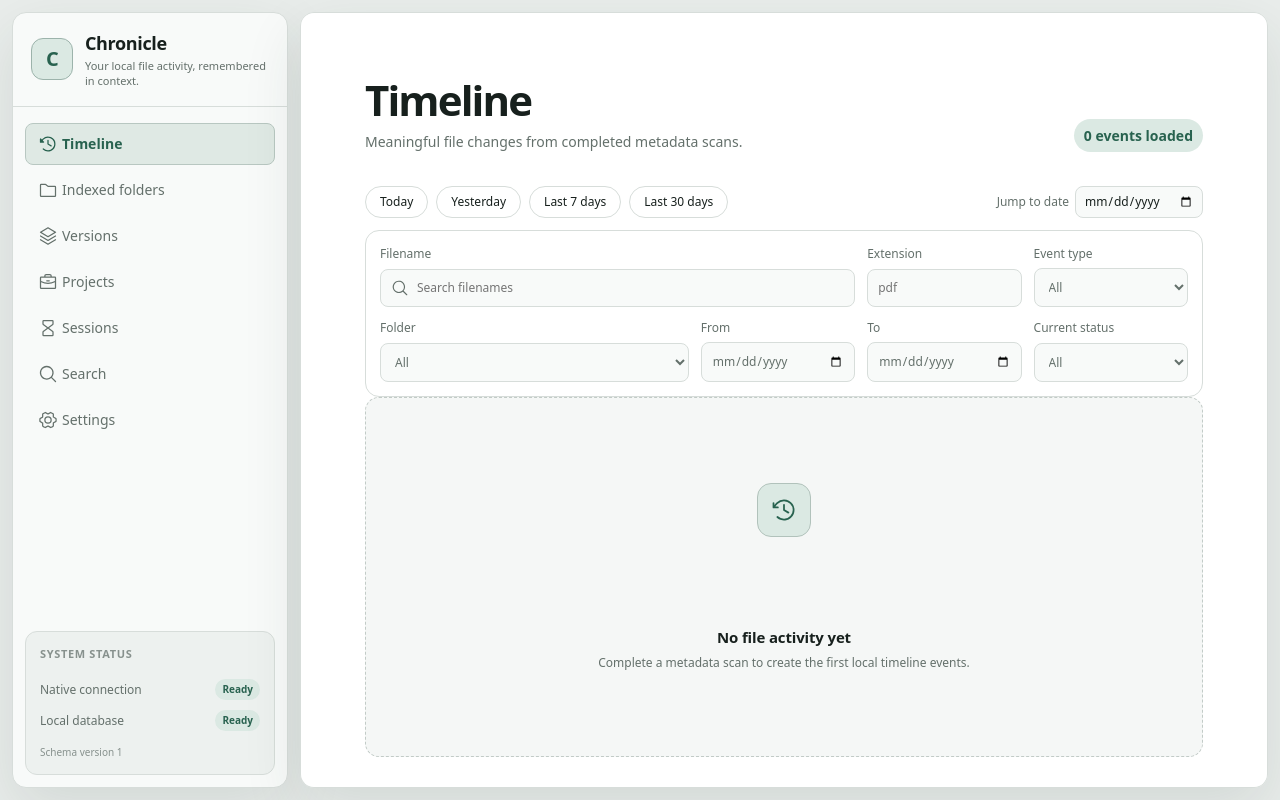
Test: Chronicle application › shows the empty indexed-folder state
This screenshot has width=1280, height=800.
Step 1. Click the button "Indexed folders" → (150, 190), box [25,169,275,211]
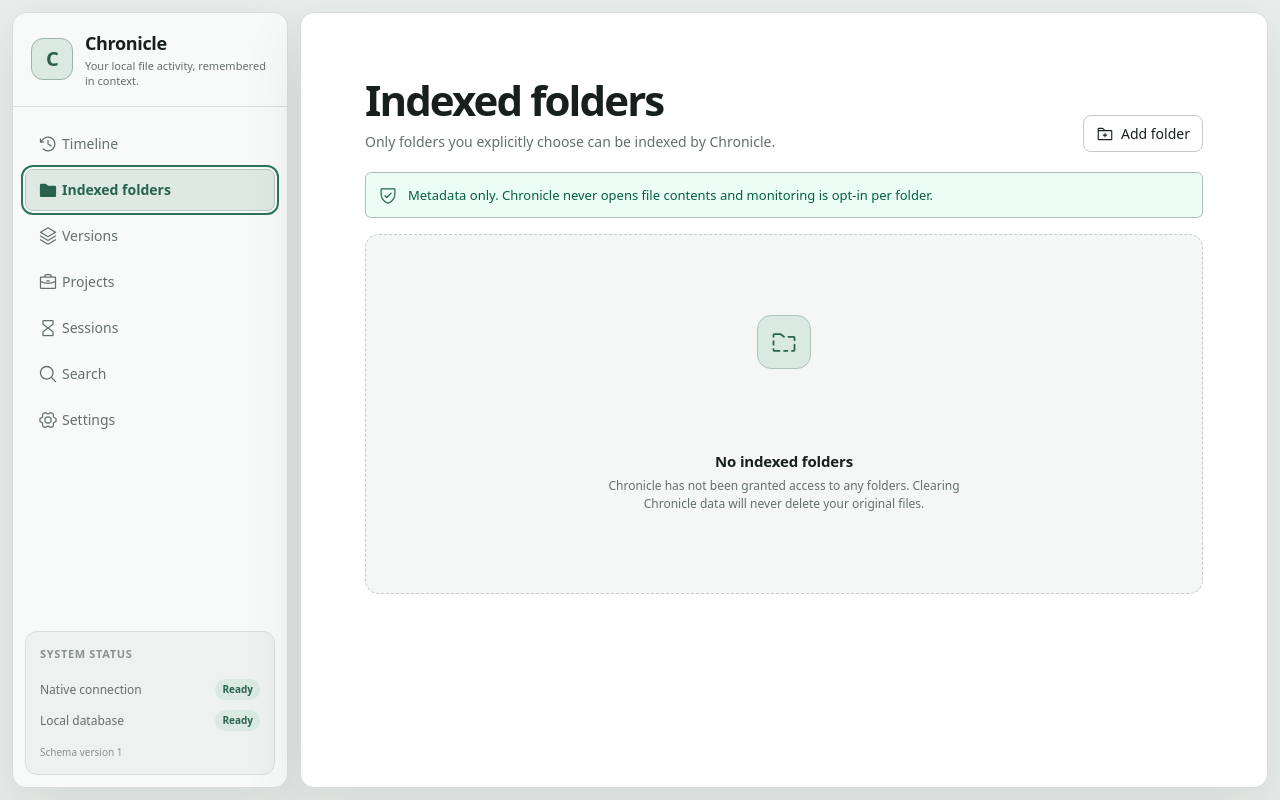
Expected: the text "No indexed folders" is shown, [715,451,853,471]
Expected: the text "never delete your original files" is shown, [608,478,960,512]
